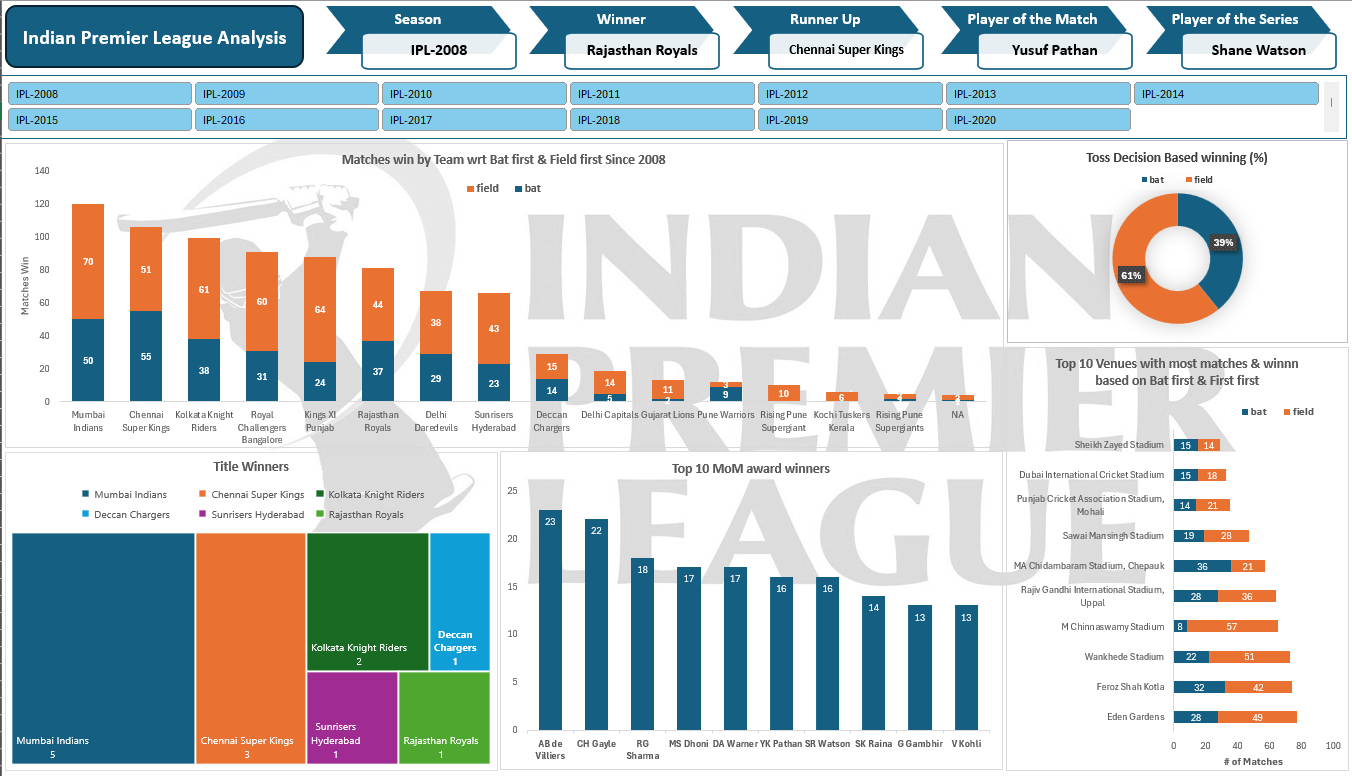

Layout of this report page (visuals, bound fields, positions):
{"tool":"powerbi","page":{"name":"IPL Finale","canvas":[1280,720],"ordinal":0},"visuals":[{"type":"advancedSlicerVisual","fields":{"Values":["Winner Data.Season"]},"box":[0,0,1279.7,49.3],"z":0},{"type":"treemap","title":"Title Winner","fields":{"Group":["IPL Matches 2008-2018.winner"],"Values":["IPL Matches 2008-2018.winner"]},"box":[0,207.8,1279.7,512.2],"z":1000},{"type":"card","fields":{"Values":["IPL Matches 2008-2018.win_by_runs"]},"box":[510.4,111,113.7,76.1],"z":2000},{"type":"card","fields":{"Values":["IPL Matches 2008-2018.win_by_wickets"]},"box":[624.2,111,111.9,76.1],"z":3000},{"type":"card","fields":{"Values":["IPL Matches 2008-2018.umpire1"]},"box":[736.1,111,162.1,76.1],"z":4000},{"type":"card","fields":{"Values":["IPL Matches 2008-2018.umpire2"]},"box":[898.2,111,154,76.1],"z":5000},{"type":"card","fields":{"Values":["Winner Data.Runner Up"]},"box":[510.4,49.3,303.6,61.8],"z":6000},{"type":"card","fields":{"Values":["Winner Data.Player of the Series"]},"box":[814,49.3,223.9,61.8],"z":7000},{"type":"card","fields":{"Values":["Winner Data.Player of the Match"]},"box":[1037.9,49.3,241.8,61.8],"z":8000},{"type":"card","fields":{"Values":["Winner Data.Winner"]},"box":[268.7,49.3,241.8,61.8],"z":9000},{"type":"textbox","box":[29.6,99.4,267.8,108.4],"z":9001}]}

Visuals, with their boxes in screenshot pixels (x1, y1, x2, y2), scaled from the page's 1280x720 canvas onto the 1352x776 screenshot:
advancedSlicerVisual - Winner Data.Season: rect(0, 0, 1351, 53)
"Title Winner" treemap: rect(0, 224, 1351, 775)
card - IPL Matches 2008-2018.win_by_runs: rect(539, 120, 659, 202)
card - IPL Matches 2008-2018.win_by_wickets: rect(659, 120, 778, 202)
card - IPL Matches 2008-2018.umpire1: rect(778, 120, 949, 202)
card - IPL Matches 2008-2018.umpire2: rect(949, 120, 1111, 202)
card - Winner Data.Runner Up: rect(539, 53, 860, 120)
card - Winner Data.Player of the Series: rect(860, 53, 1096, 120)
card - Winner Data.Player of the Match: rect(1096, 53, 1351, 120)
card - Winner Data.Winner: rect(284, 53, 539, 120)
textbox: rect(31, 107, 314, 224)
